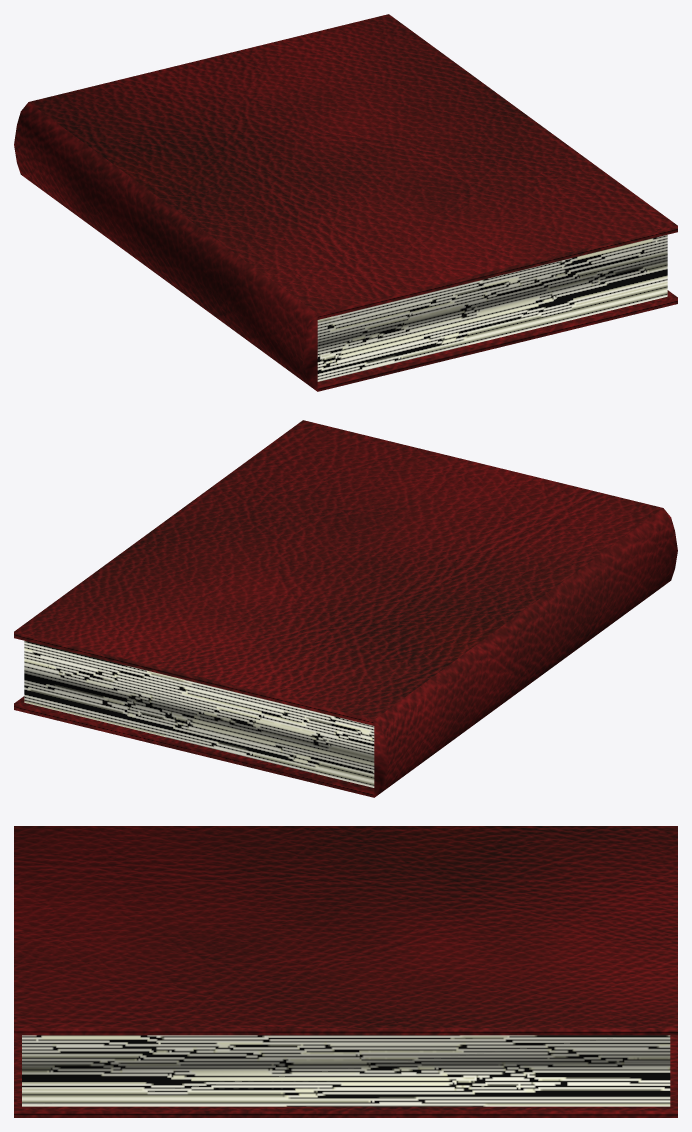
File: Book_2.fbx
3 renders of one model, top to bottom at view 1: azimuth 30°, elevation 25°; view 2: azimuth 150°, elevation 25°; view 3: azimuth 270°, elevation 25°, orthographic. The views are drawn at different scales.
Parts seen in each view (by area): view 1: Book; view 2: Book; view 3: Book.
Part boxes in pixels (left/top/right/bottom): Book: left=14, top=14, right=677, bottom=391; Book: left=14, top=420, right=677, bottom=797; Book: left=14, top=826, right=677, bottom=1117.
Size of the model in its own units: 14.85 by 2.96 by 19.84.
1 material, 1 textured.
